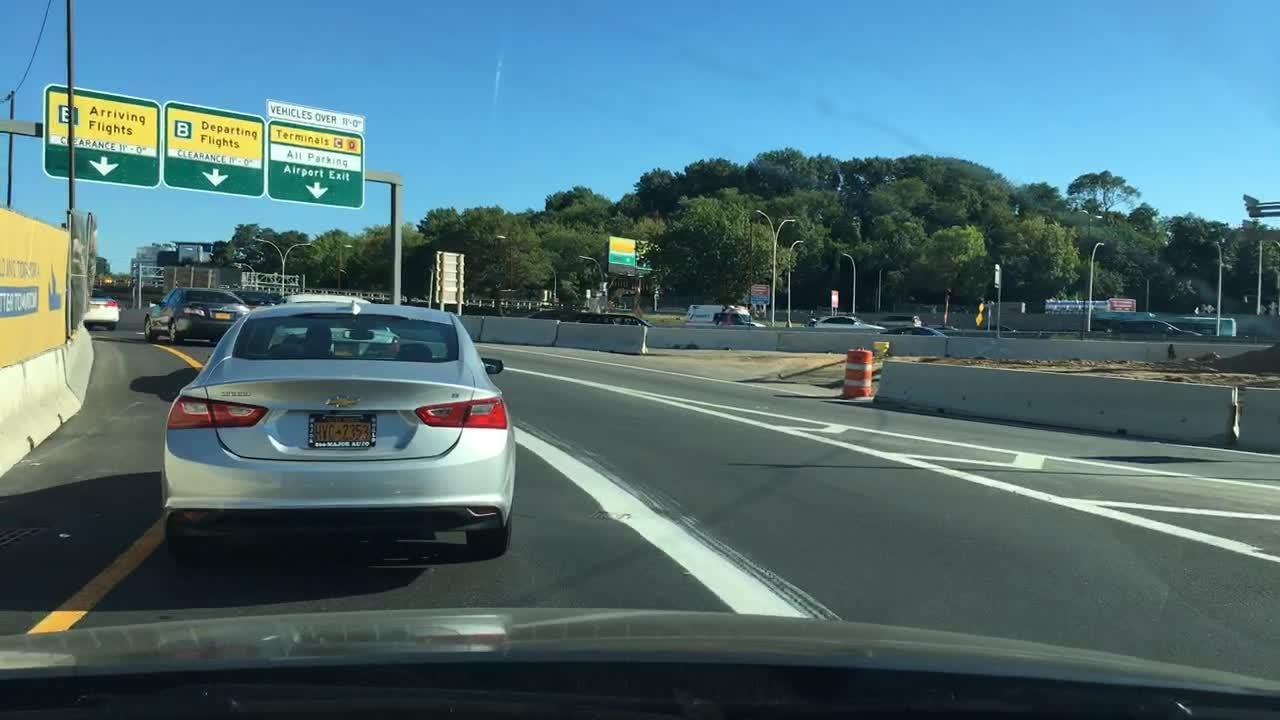chevrolet: (317, 387, 377, 415)
